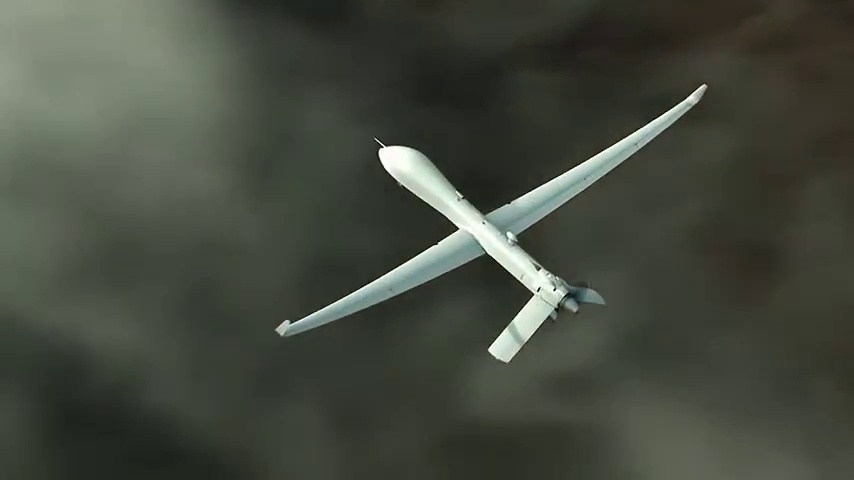military drone: (274, 83, 707, 363)
